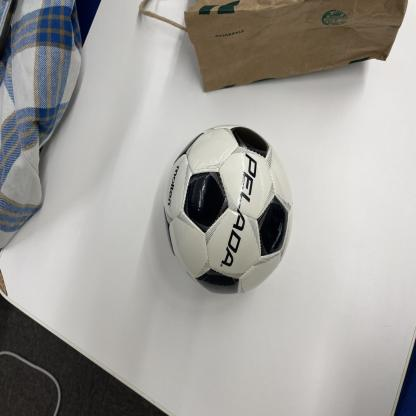ball: (164, 125, 293, 296)
